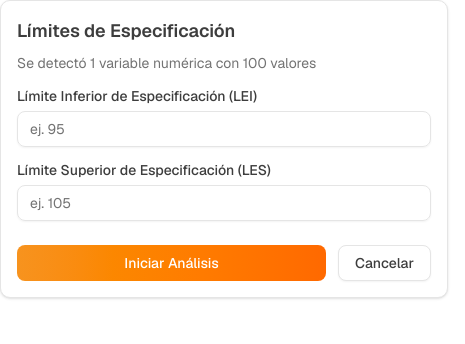
it: SpecLimitsForm › required field validation › displays required error for empty LES field on submit
In the field labelled "Límite Inferior de Especificación (LEI)": (224, 129) [17,111,431,147], type "95"
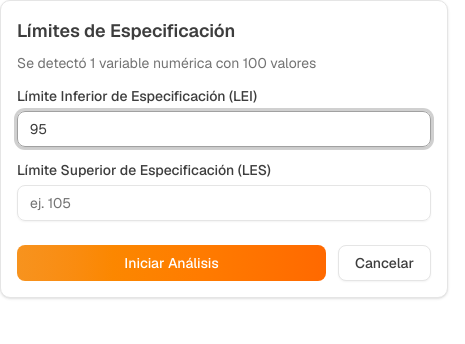
Click the button "Iniciar Análisis": (172, 263) [17,245,326,281]
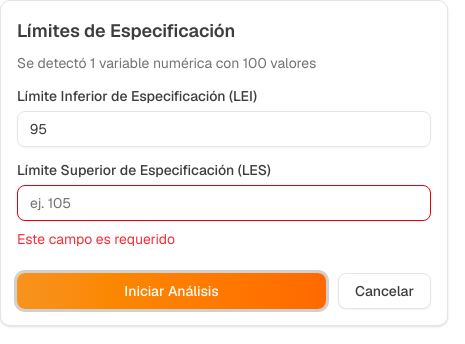
Result: the text "Este campo es requerido" is shown at [17,230,175,248]
